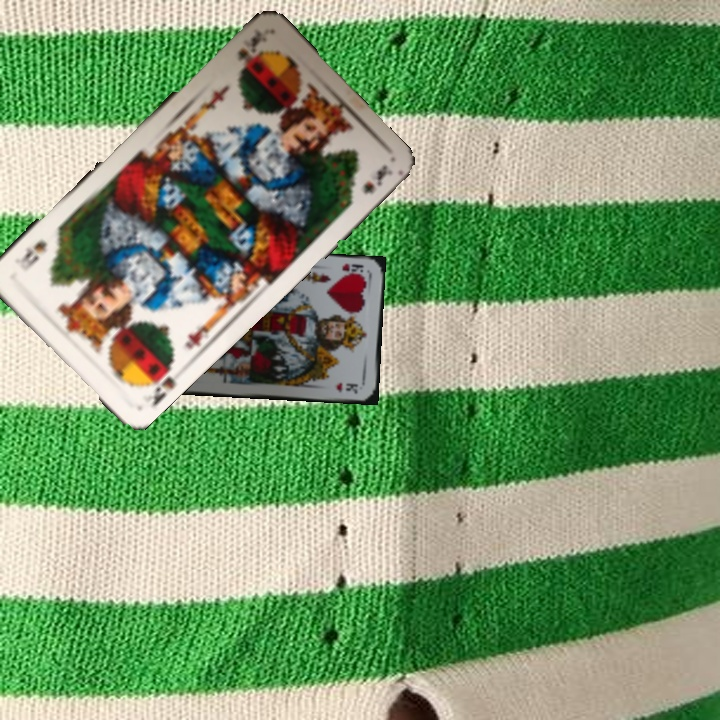HK: (338, 259, 368, 278)
SK: (146, 357, 179, 409), (233, 24, 270, 67)
